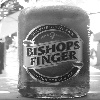beer: (13, 6, 95, 100)
